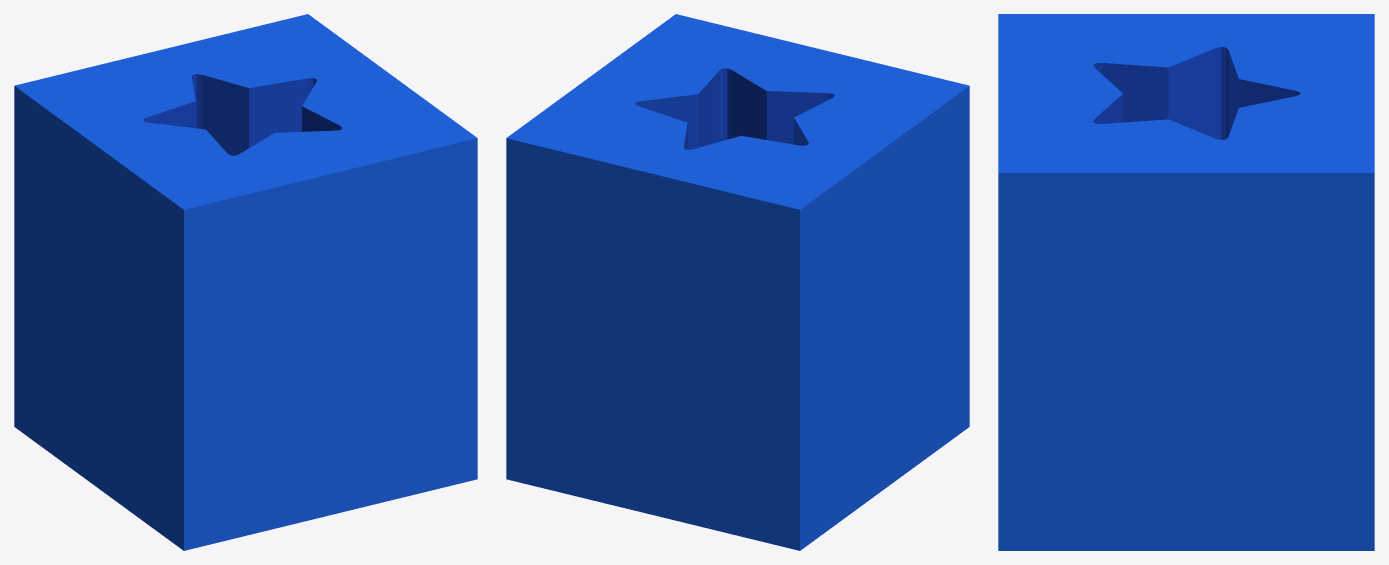
Rendered from cubeStar.fbx.
The picture shows the model from 3 angles, left to right: view 1: azimuth 30°, elevation 25°; view 2: azimuth 150°, elevation 25°; view 3: azimuth 270°, elevation 25°; orthographic projection. The views are drawn at different scales.
Parts seen in each view (by area): view 1: CubeStar; view 2: CubeStar; view 3: CubeStar.
Part boxes in pixels (x1,y1,x2,y2): CubeStar: [14, 14, 477, 550]; CubeStar: [506, 14, 969, 550]; CubeStar: [998, 14, 1374, 550].
Size of the model in its own units: 425 by 471 by 425.
